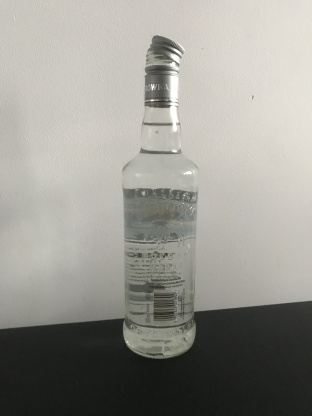nakretka: (142, 32, 186, 108)
